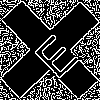E: (25, 25, 81, 81)
